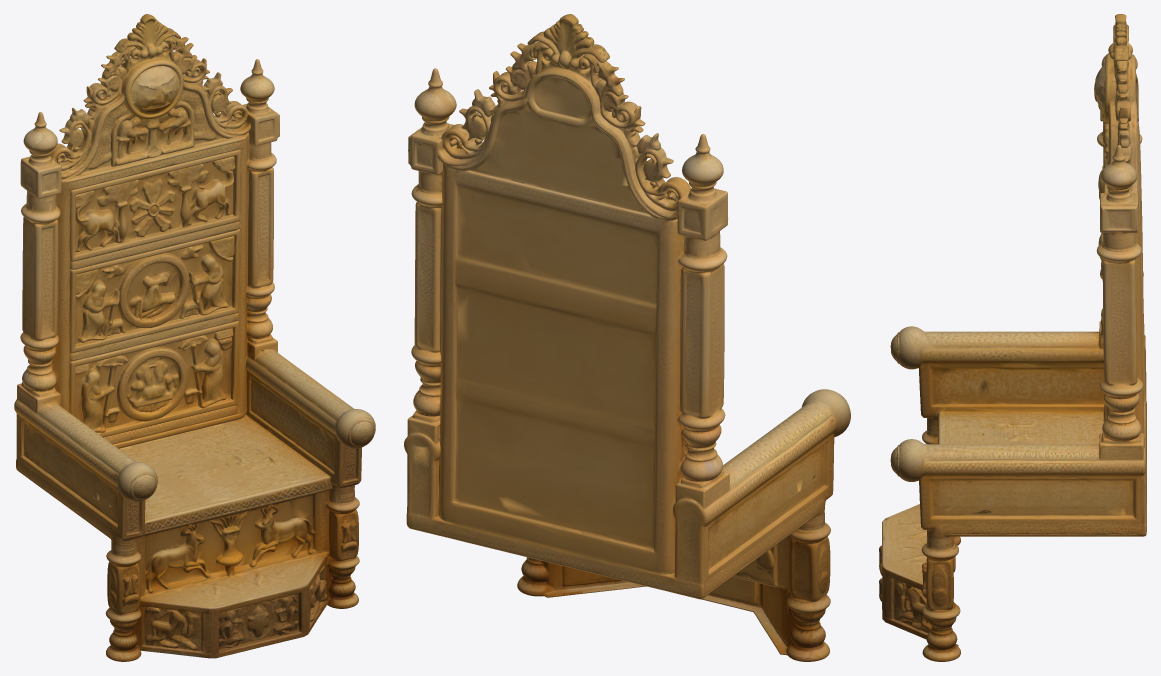
File: trone2.glb
3 views of the same model, side by side, from view 1: azimuth 30°, elevation 25°; view 2: azimuth 150°, elevation 25°; view 3: azimuth 270°, elevation 25° (orthographic). The views are drawn at different scales.
Visible parts, largest first — view 1: material; view 2: material; view 3: material.
Boxes of the visible parts, x1,y1,x2,y2 form: material: [14, 14, 375, 661]; material: [404, 14, 850, 661]; material: [879, 14, 1146, 661].
Size of the model in its own units: 0.5135 by 1.06 by 0.4426.
1 material, 1 textured.
